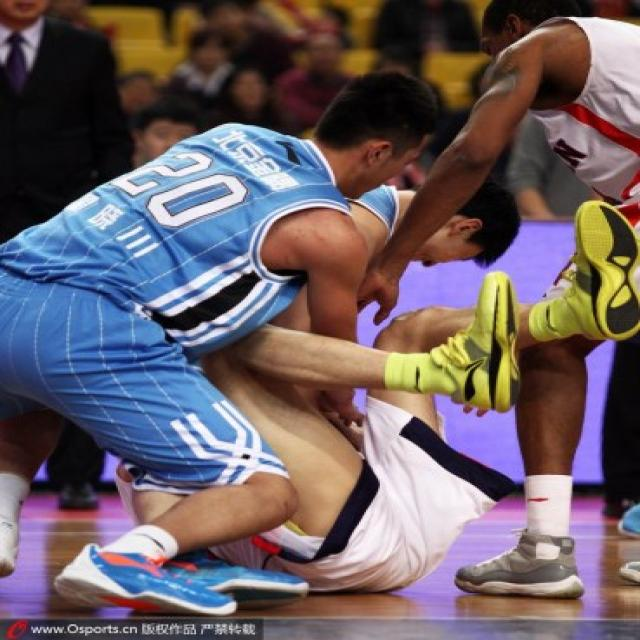10-: (0, 0, 631, 613)
down: (110, 196, 638, 585)
